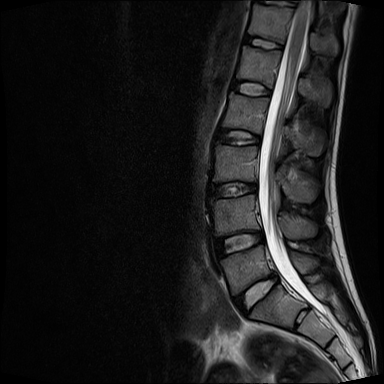Lumbar Disc Bulge (LDB): (204, 218, 273, 266), (228, 266, 285, 322)
Normal IVD: (226, 75, 272, 100), (206, 179, 259, 200), (212, 127, 261, 149), (245, 34, 284, 52)
